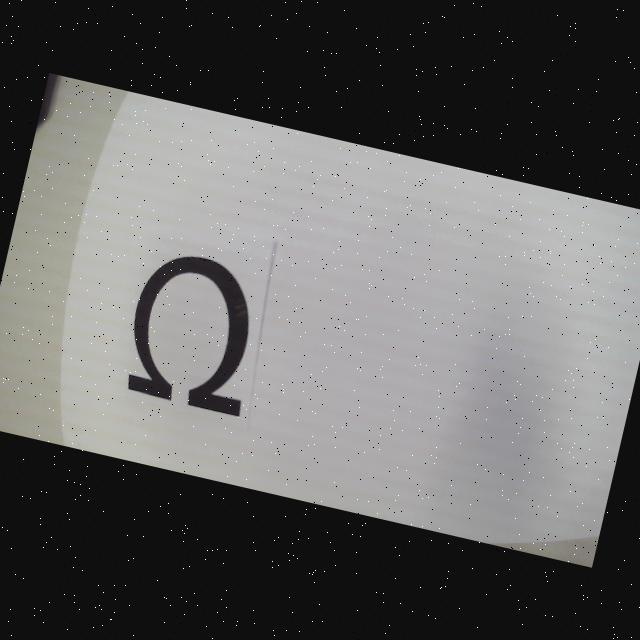OMEGA: (116, 245, 272, 418)
